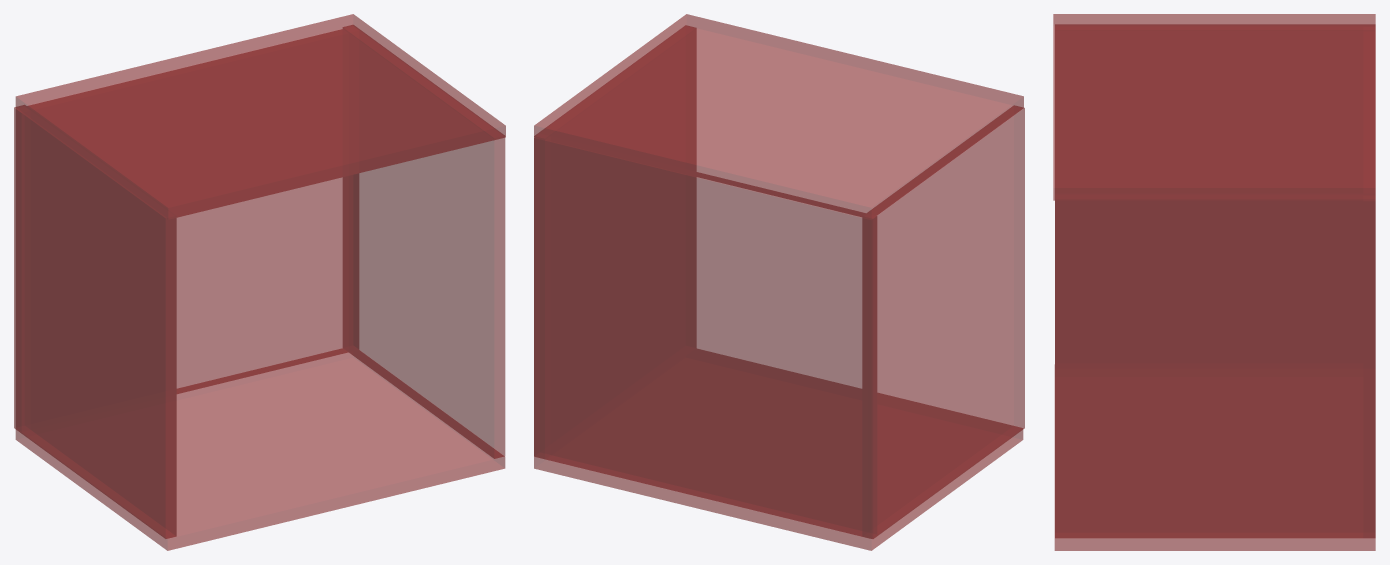
File: SM_Prop_Cage_01_Collision.fbx
The picture shows the model from 3 angles, left to right: view 1: azimuth 30°, elevation 25°; view 2: azimuth 150°, elevation 25°; view 3: azimuth 270°, elevation 25°; orthographic projection. The views are drawn at different scales.
Parts seen in each view (by area): view 1: SM_Prop_Cage_01_Collision; view 2: SM_Prop_Cage_01_Collision; view 3: SM_Prop_Cage_01_Collision.
Boxes of the visible parts, <box> form: SM_Prop_Cage_01_Collision: <box>14,14,505,550</box>; SM_Prop_Cage_01_Collision: <box>534,14,1024,550</box>; SM_Prop_Cage_01_Collision: <box>1053,14,1375,550</box>.
Bounding box in the file's own units: 177 × 171 × 138.
